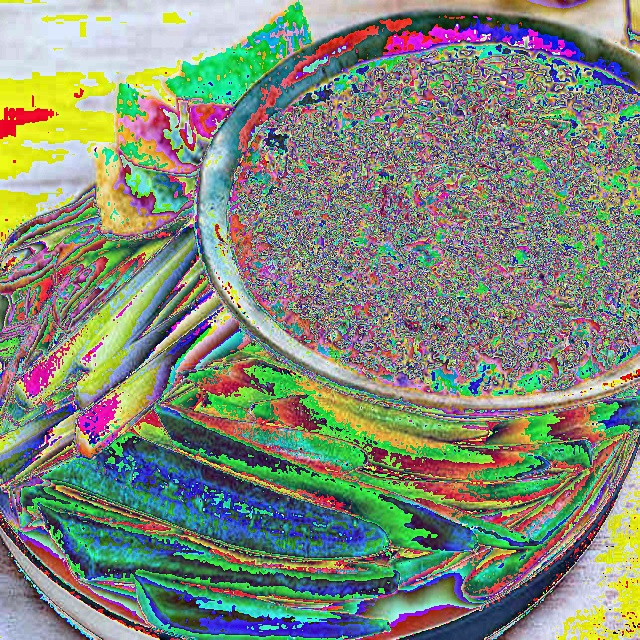background: (0, 0, 640, 638), (226, 42, 639, 400)
